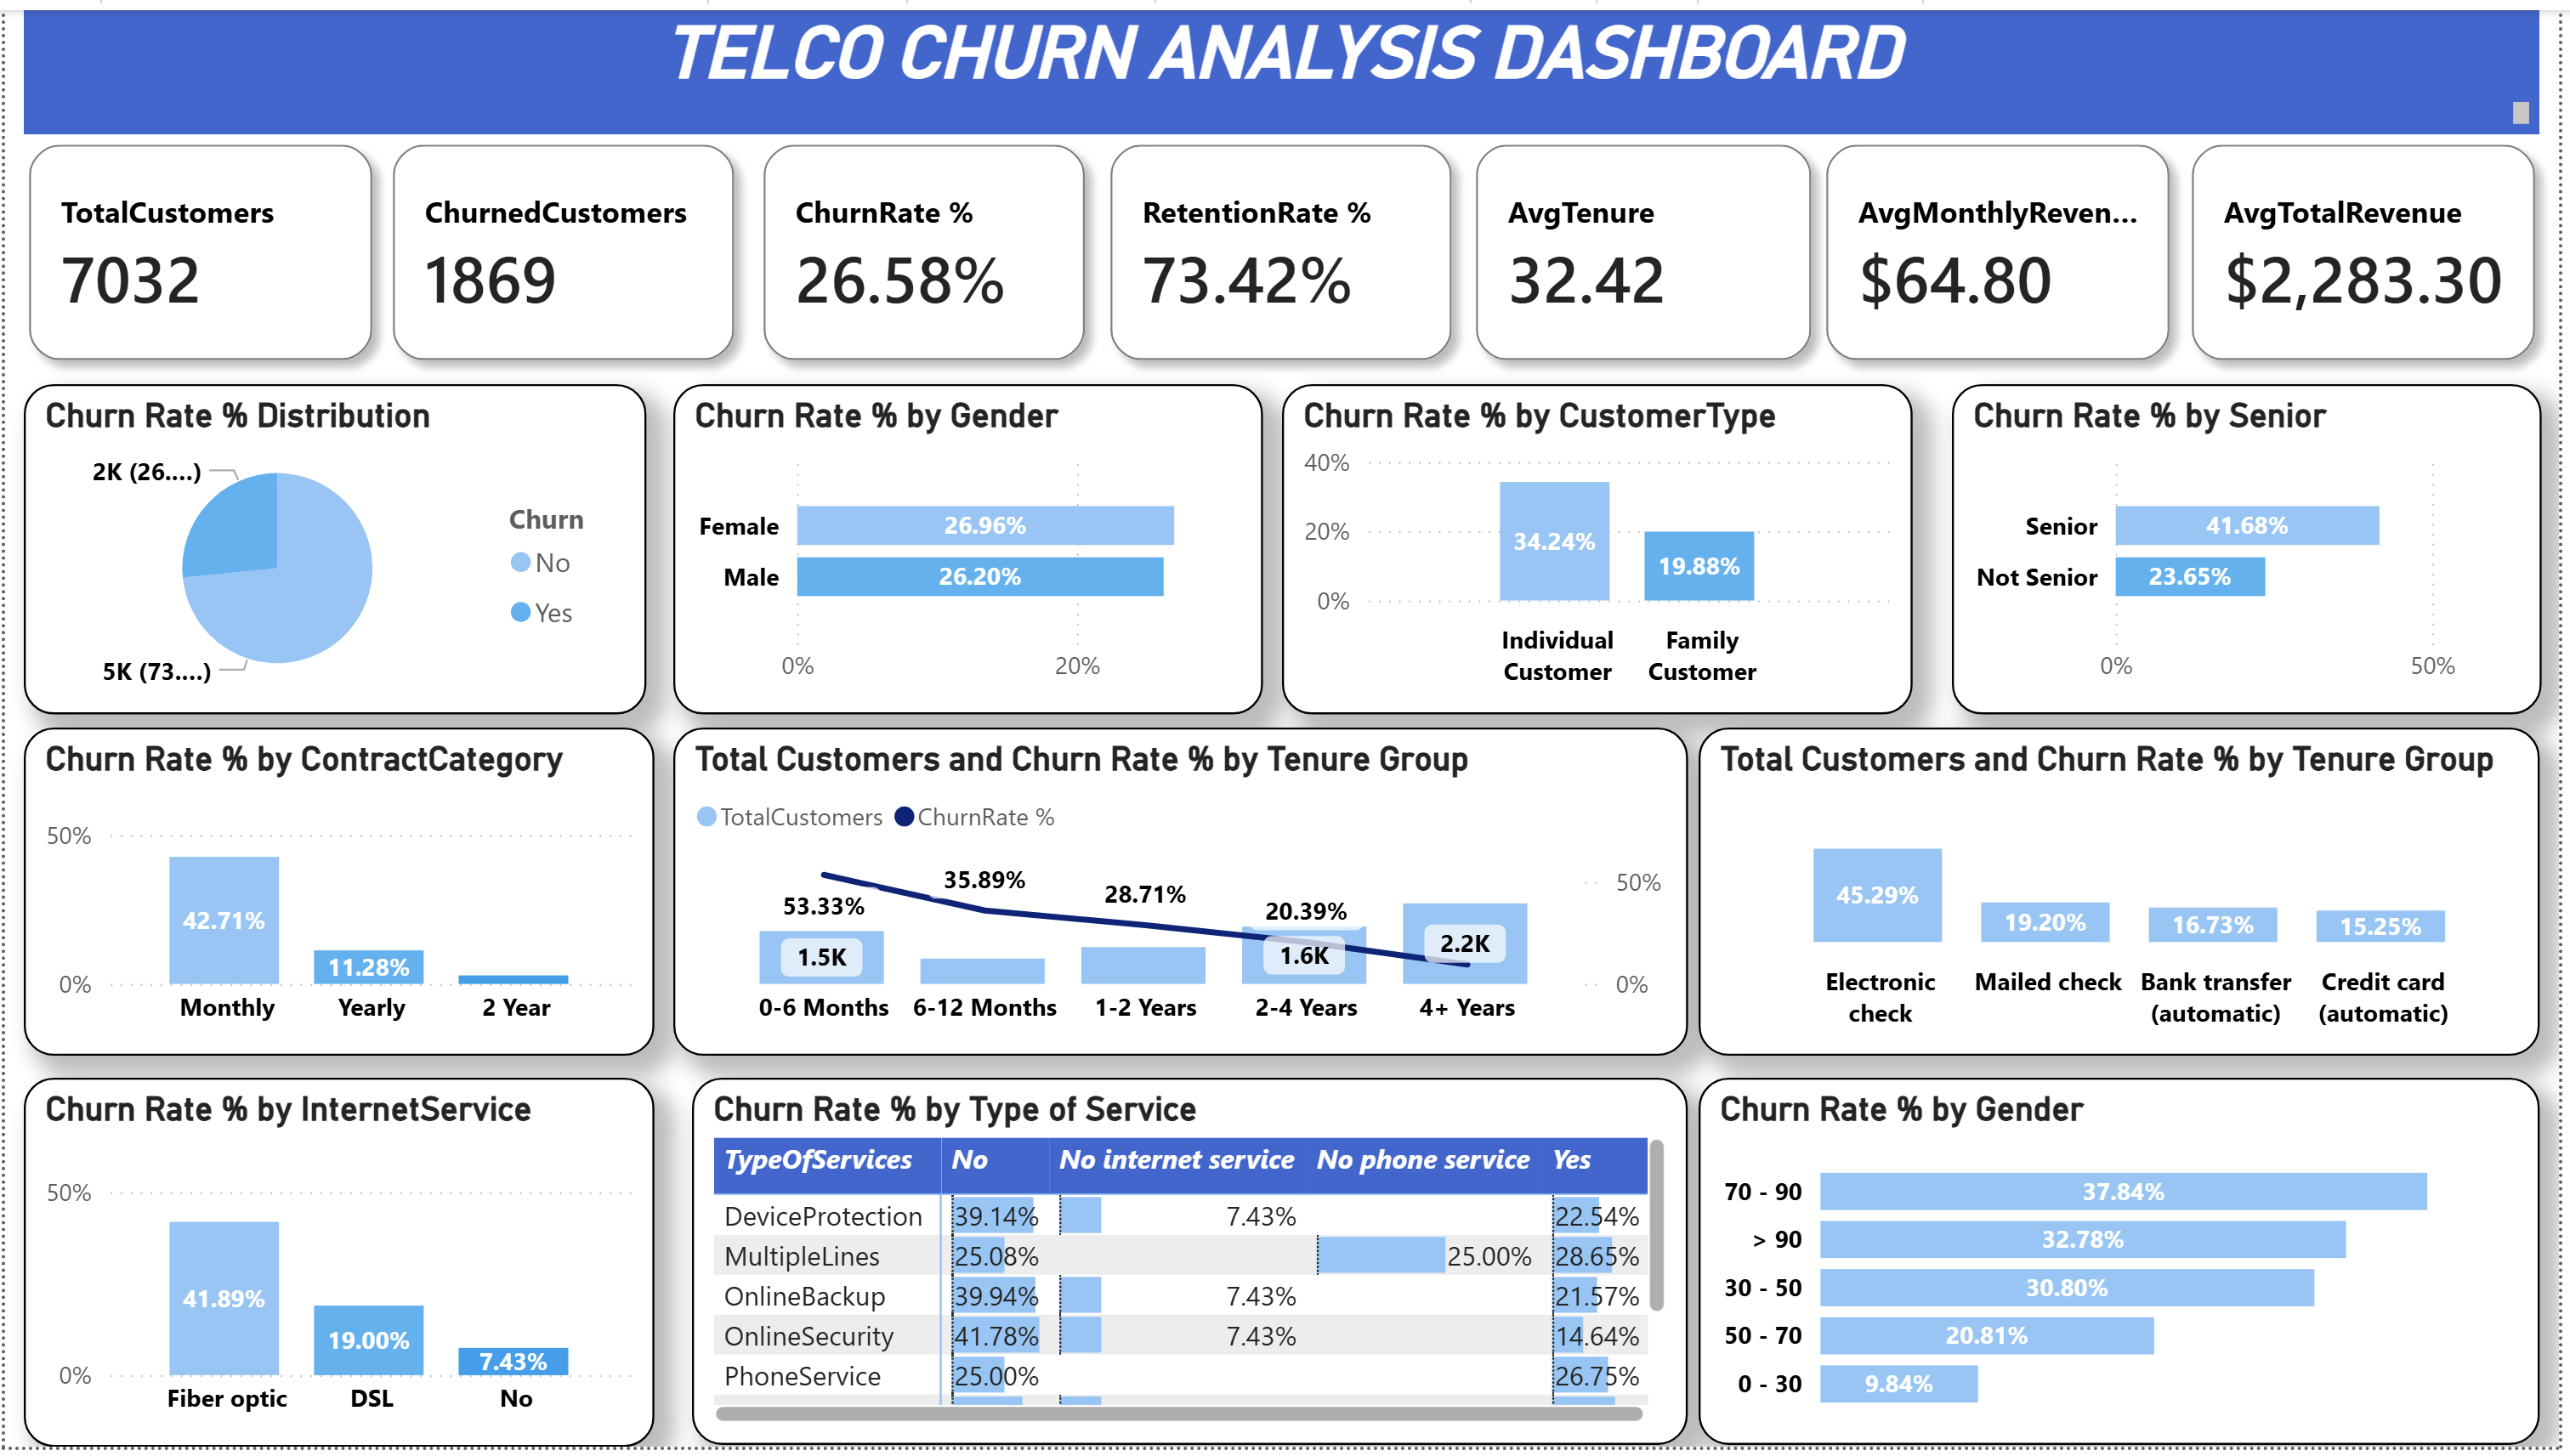

Layout of this report page (visuals, bound fields, positions):
{"tool":"powerbi","page":{"name":"Churn Analysis","canvas":[1280,720],"ordinal":0},"visuals":[{"type":"textbox","title":"TELCO CHURN ANALYSIS DASHBOARD","box":[9.6,0,1260.7,62.1],"z":0},{"type":"cardVisual","fields":{"Data":["01 MEASURE.TotalCustomers"]},"box":[0,55.1,196.3,132.7],"z":2000},{"type":"cardVisual","fields":{"Data":["01 MEASURE.RetentionRate %"]},"box":[542.1,55.1,195.3,132.7],"z":3000},{"type":"cardVisual","fields":{"Data":["01 MEASURE.AvgTenure"]},"box":[725.2,55.1,192.5,132.7],"z":4000},{"type":"cardVisual","fields":{"Data":["01 MEASURE.AvgMonthlyRevenue"]},"box":[900.9,55.1,196.3,132.7],"z":5000},{"type":"cardVisual","fields":{"Data":["Avg(telco_churn_cleaned.TotalCharges)"]},"box":[1084.1,55.1,196.3,132.7],"z":6000},{"type":"cardVisual","fields":{"Data":["01 MEASURE.ChurnRate %"]},"box":[368.2,55.1,185,132.7],"z":7000},{"type":"cardVisual","fields":{"Data":["01 MEASURE.TotalChurned"]},"box":[182.2,55.1,195.3,132.7],"z":7001},{"type":"pieChart","title":"Churn Rate %  Distribution","fields":{"Y":["01 MEASURE.TotalCustomers"],"Category":["telco_churn_cleaned.Churn"]},"box":[9.3,187.9,312.1,165.4],"z":7002},{"type":"barChart","title":"Churn Rate % by Gender","fields":{"Category":["telco_churn_cleaned.gender"],"Y":["01 MEASURE.ChurnRate %"],"Series":["telco_churn_cleaned.gender"]},"box":[334.6,187.9,295.3,165.4],"z":7003},{"type":"columnChart","title":"Churn Rate % by CustomerType","fields":{"Y":["01 MEASURE.ChurnRate %"],"Category":["telco_churn_cleaned.CustomerType"],"Series":["telco_churn_cleaned.CustomerType"]},"box":[640.2,187.9,315.9,165.4],"z":7004},{"type":"barChart","title":"Churn Rate %  by Senior","fields":{"Y":["01 MEASURE.ChurnRate %"],"Category":["telco_churn_cleaned.Senior"],"Series":["telco_churn_cleaned.Senior"]},"box":[975.7,187.9,295.3,165.4],"z":7005},{"type":"columnChart","title":"Churn Rate % by ContractCategory","fields":{"Y":["01 MEASURE.ChurnRate %"],"Category":["telco_churn_cleaned.ContractCategory"],"Series":["telco_churn_cleaned.ContractCategory"]},"box":[9.3,359.8,315.9,164.5],"z":7006},{"type":"lineStackedColumnComboChart","title":"Total Customers and Churn Rate % by Tenure Group","fields":{"Y":["01 MEASURE.TotalCustomers"],"Y2":["01 MEASURE.ChurnRate %"],"Category":["telco_churn_cleaned.TenureGroup"]},"box":[334.6,359.8,508.4,164.5],"z":7007},{"type":"columnChart","title":"Total Customers and Churn Rate % by Tenure Group","fields":{"Y":["01 MEASURE.ChurnRate %"],"Category":["telco_churn_cleaned.PaymentMethod"]},"box":[848.6,359.8,421.5,164.5],"z":7008},{"type":"columnChart","title":"Churn Rate % by InternetService","fields":{"Y":["01 MEASURE.ChurnRate %"],"Series":["telco_churn_cleaned.InternetService"],"Category":["telco_churn_cleaned.InternetService"]},"box":[9.3,535.5,315.9,185],"z":7009},{"type":"pivotTable","title":"Churn Rate % by Type of Service","fields":{"Values":["01 MEASURE.ChurnRate %"],"Columns":["telco_churn_cleaned.StatusOfServices"],"Rows":["telco_churn_cleaned.TypeOfServices"]},"box":[343.9,535.5,499.1,184.1],"z":7010},{"type":"barChart","title":"Churn Rate % by Gender","fields":{"Y":["01 MEASURE.ChurnRate %"],"Category":["telco_churn_cleaned.MonthlyRevenue"]},"box":[848.6,535.5,421.5,184.1],"z":7011}]}

Visuals, with their boxes in screenshot pixels (x1, y1, x2, y2), scaled from the page's 1280x720 canvas onto the 2570x1456 screenshot:
"TELCO CHURN ANALYSIS DASHBOARD" textbox: [x1=20, y1=0, x2=2550, y2=126]
cardVisual - 01 MEASURE.TotalCustomers: [x1=0, y1=111, x2=394, y2=380]
cardVisual - 01 MEASURE.RetentionRate %: [x1=1088, y1=111, x2=1481, y2=380]
cardVisual - 01 MEASURE.AvgTenure: [x1=1456, y1=111, x2=1842, y2=380]
cardVisual - 01 MEASURE.AvgMonthlyRevenue: [x1=1809, y1=111, x2=2203, y2=380]
cardVisual - Avg(telco_churn_cleaned.TotalCharges): [x1=2176, y1=111, x2=2569, y2=380]
cardVisual - 01 MEASURE.ChurnRate %: [x1=740, y1=111, x2=1111, y2=380]
cardVisual - 01 MEASURE.TotalChurned: [x1=366, y1=111, x2=758, y2=380]
"Churn Rate %  Distribution" pieChart: [x1=19, y1=380, x2=645, y2=715]
"Churn Rate % by Gender" barChart: [x1=672, y1=380, x2=1265, y2=715]
"Churn Rate % by CustomerType" columnChart: [x1=1285, y1=380, x2=1920, y2=715]
"Churn Rate %  by Senior" barChart: [x1=1959, y1=380, x2=2552, y2=715]
"Churn Rate % by ContractCategory" columnChart: [x1=19, y1=728, x2=653, y2=1060]
"Total Customers and Churn Rate % by Tenure Group" lineStackedColumnComboChart: [x1=672, y1=728, x2=1693, y2=1060]
"Total Customers and Churn Rate % by Tenure Group" columnChart: [x1=1704, y1=728, x2=2550, y2=1060]
"Churn Rate % by InternetService" columnChart: [x1=19, y1=1083, x2=653, y2=1455]
"Churn Rate % by Type of Service" pivotTable: [x1=690, y1=1083, x2=1693, y2=1455]
"Churn Rate % by Gender" barChart: [x1=1704, y1=1083, x2=2550, y2=1455]
